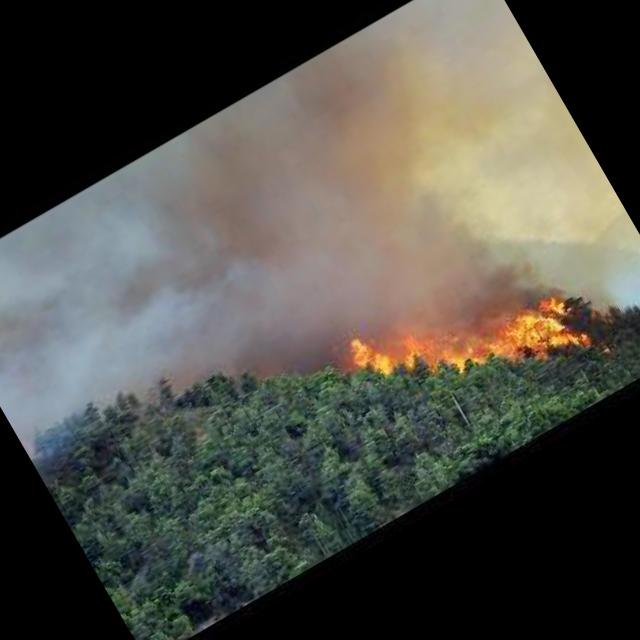fire: (357, 262, 555, 428)
smoke: (432, 180, 572, 332)
